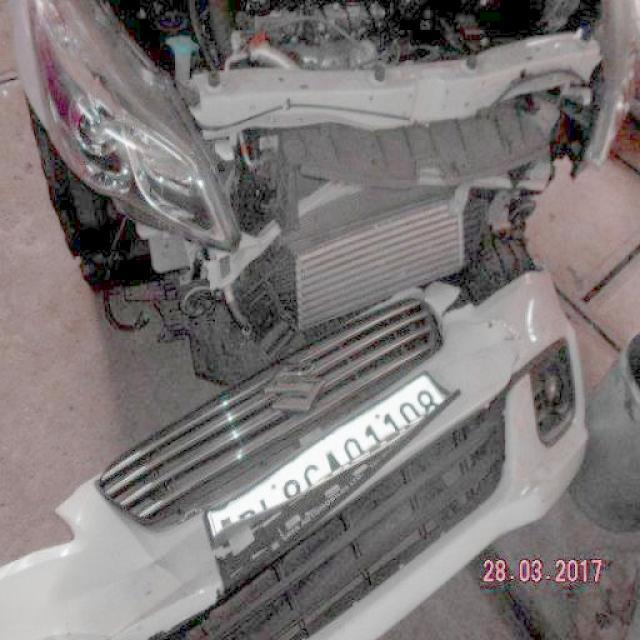car damage: (31, 9, 612, 351)
